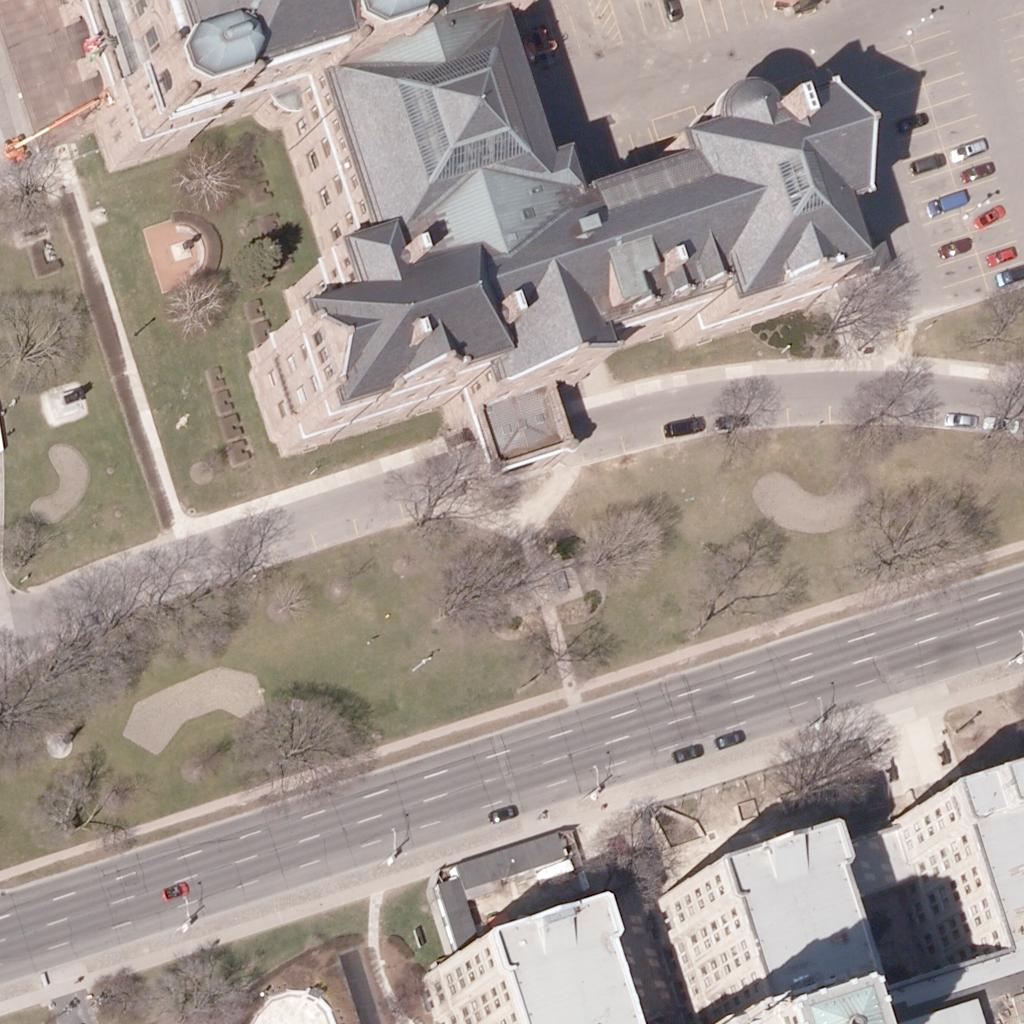car: (893, 102, 927, 136), (955, 132, 989, 166), (914, 143, 948, 177), (960, 155, 994, 189), (927, 186, 961, 220), (969, 197, 1003, 231), (938, 231, 972, 265), (986, 236, 1020, 270), (945, 403, 979, 437), (715, 404, 749, 438), (979, 406, 1013, 440), (664, 412, 698, 446), (718, 721, 752, 755), (674, 734, 708, 768), (488, 793, 522, 827), (488, 794, 522, 828), (158, 873, 192, 907), (995, 255, 1024, 289), (657, 0, 691, 19)
